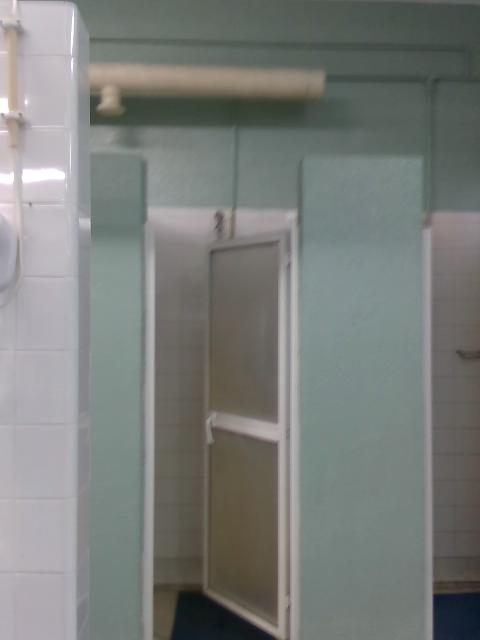semi_door: (140, 207, 301, 639)
